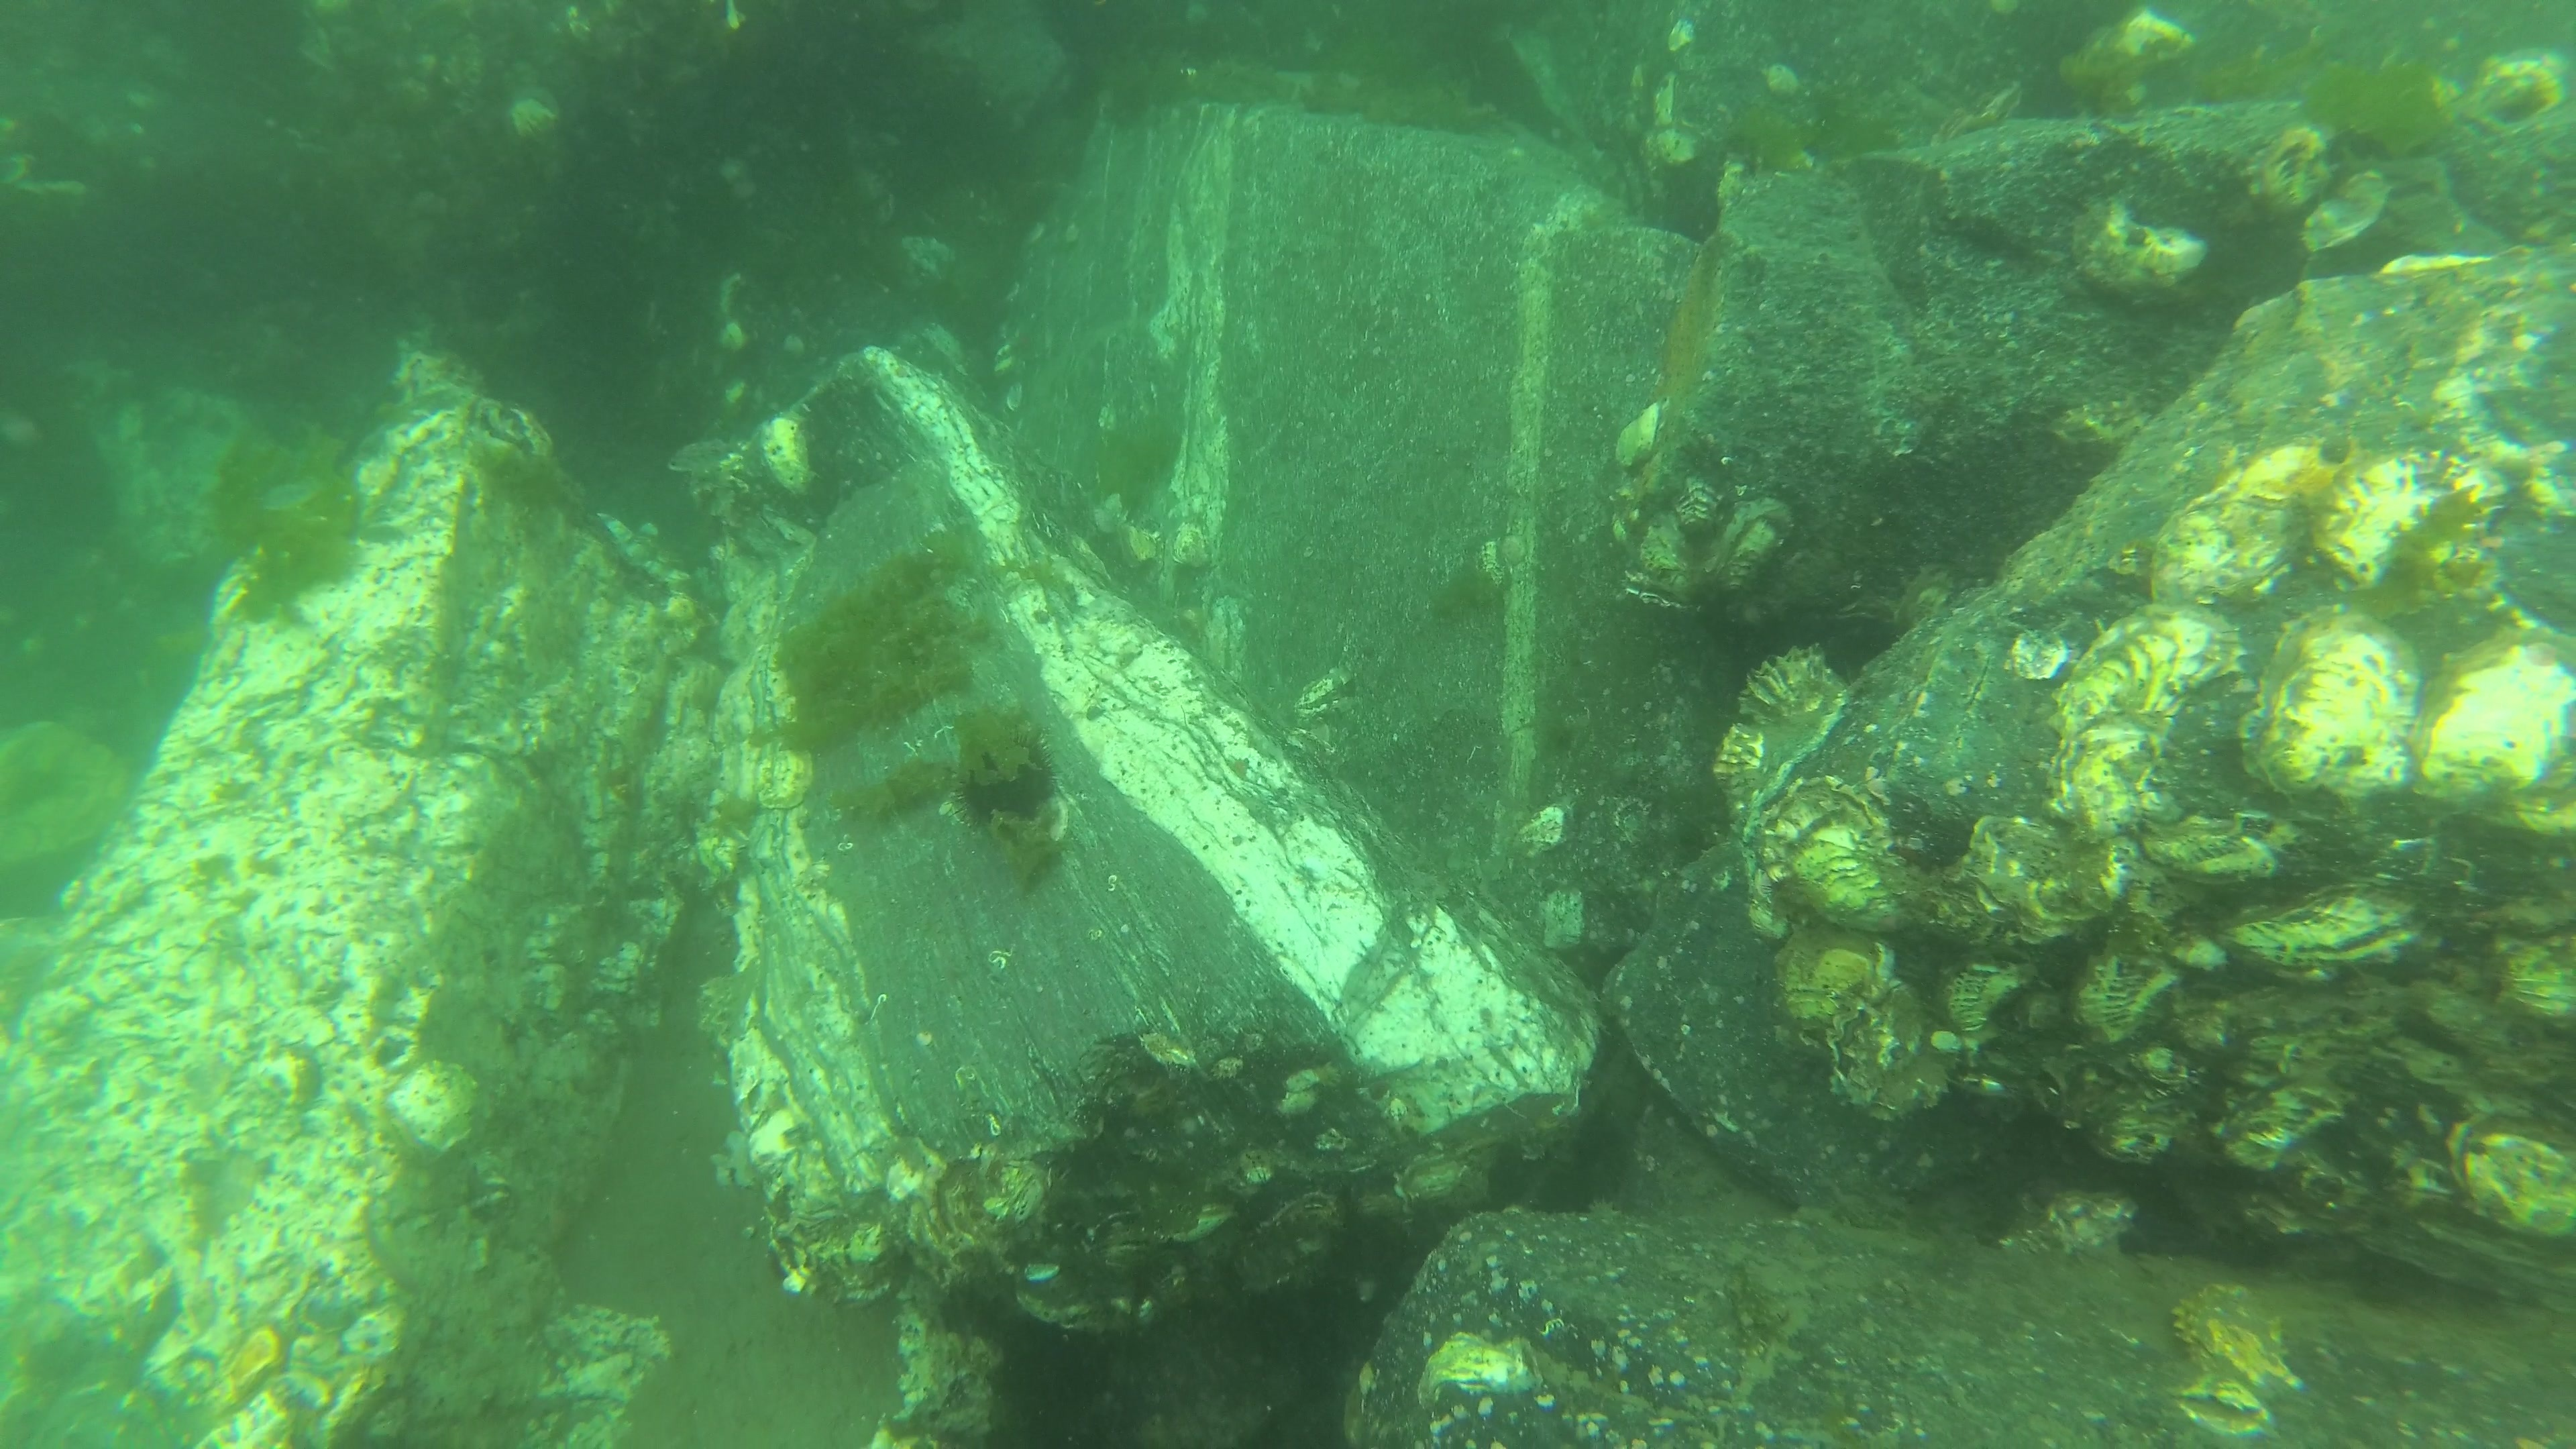echinus: (962, 740, 1063, 837)
